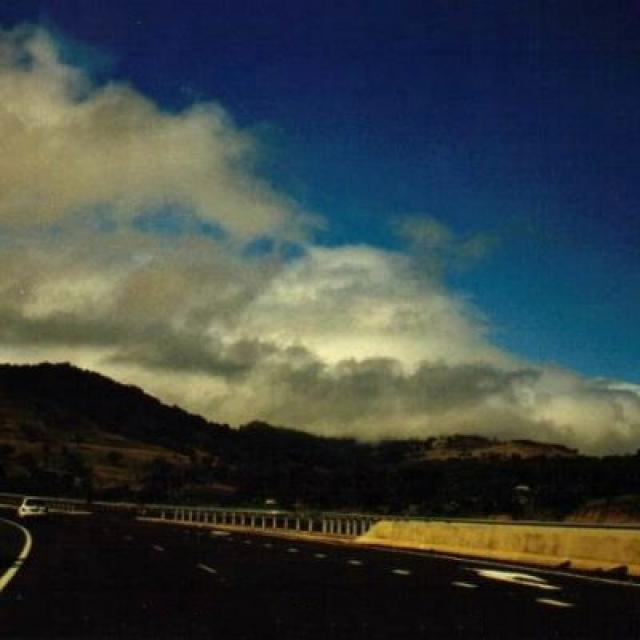Sc: (1, 56, 640, 424)
